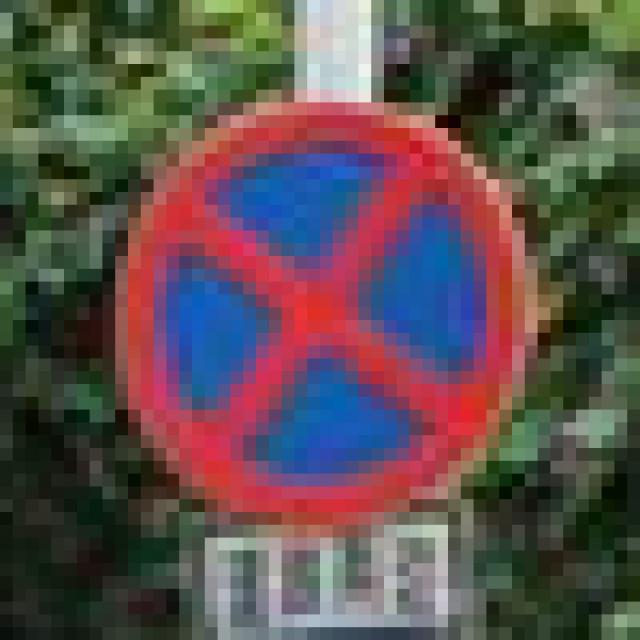NO_STOPPING_OR_STANDING: (90, 90, 524, 499)
